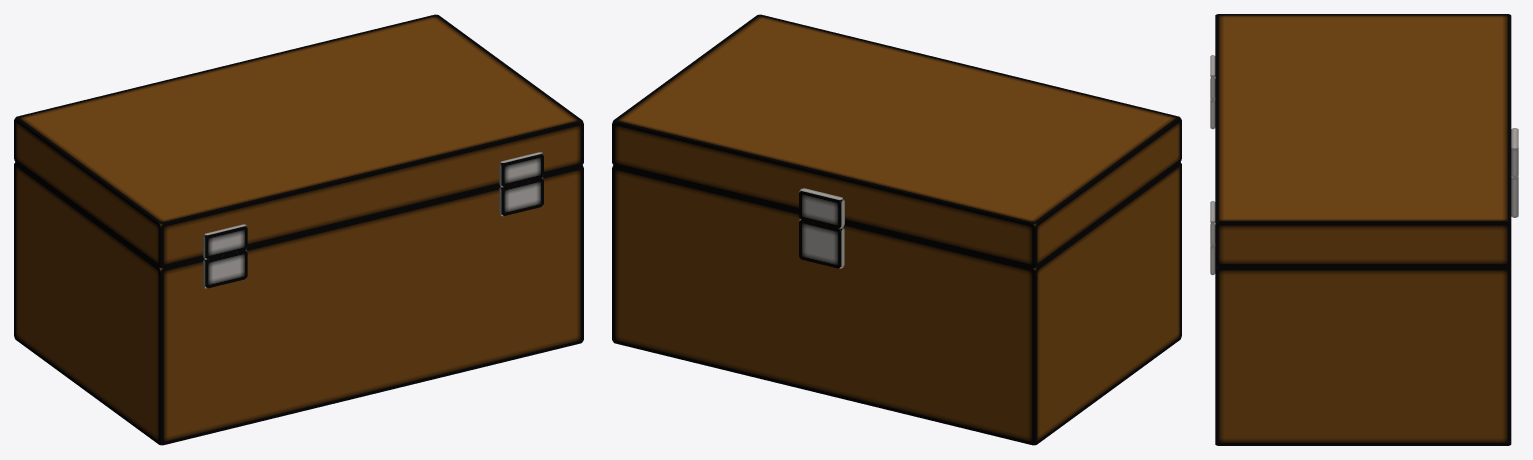
Rendered from chest.obj.
3 renders of one model, left to right at view 1: azimuth 30°, elevation 25°; view 2: azimuth 150°, elevation 25°; view 3: azimuth 270°, elevation 25°, orthographic.
Parts seen in each view (by area): view 1: cube; view 2: cube; view 3: cube.
Boxes of the visible parts, box(x1,y1,x2,y2) form: cube: box(14, 14, 583, 445); cube: box(612, 14, 1181, 445); cube: box(1210, 14, 1518, 445).
Size of the model in its own units: 1.25 by 0.625 by 0.7812.
1 material, 1 textured.
